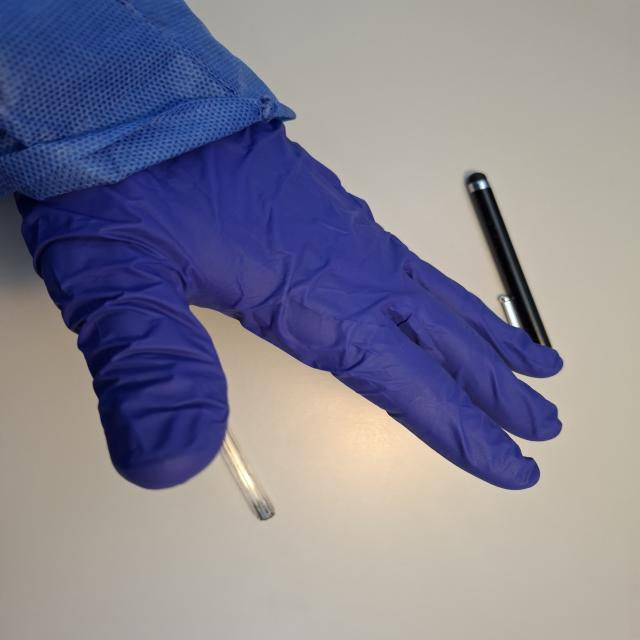glove_on: (12, 109, 572, 493)
